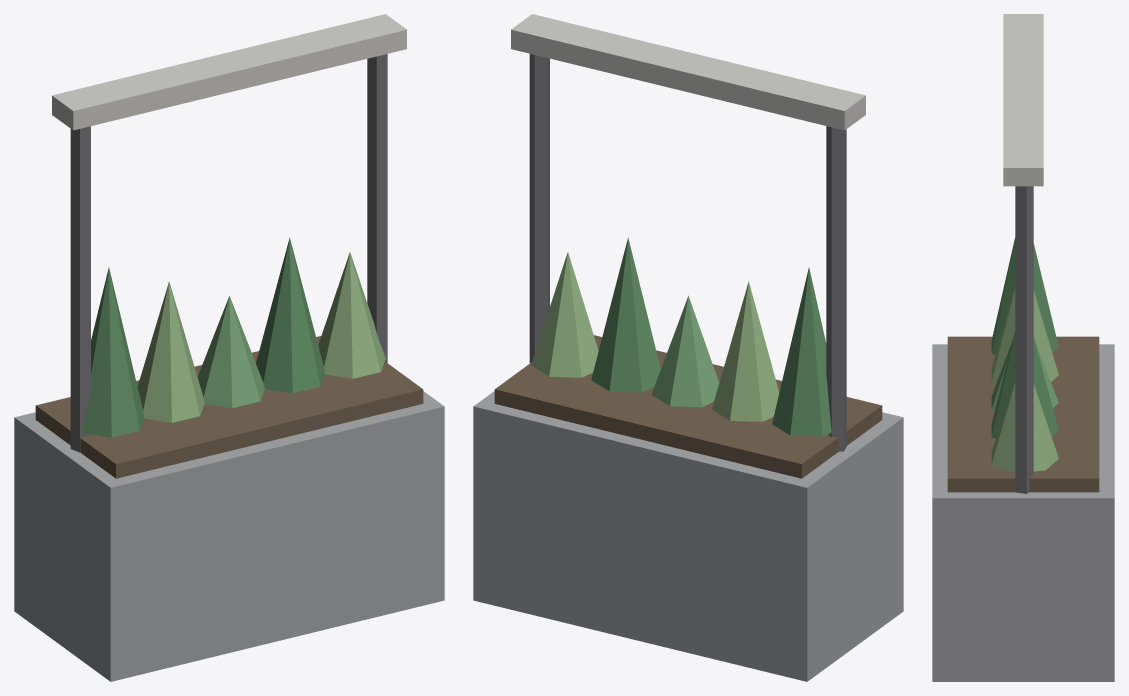
File: pla_horta_inteligente.glb
The picture shows the model from 3 angles, left to right: view 1: azimuth 30°, elevation 25°; view 2: azimuth 150°, elevation 25°; view 3: azimuth 270°, elevation 25°; orthographic projection. The views are drawn at different scales.
Visible parts, largest first — view 1: PLA_HORTA_INTELIGENTE_v01; view 2: PLA_HORTA_INTELIGENTE_v01; view 3: PLA_HORTA_INTELIGENTE_v01.
Part boxes in pixels (x1,y1,x2,y2): PLA_HORTA_INTELIGENTE_v01: (14, 14, 444, 681); PLA_HORTA_INTELIGENTE_v01: (473, 14, 903, 681); PLA_HORTA_INTELIGENTE_v01: (932, 14, 1114, 681).
Bounding box in the file's own units: 0.36 × 0.56 × 0.18.
